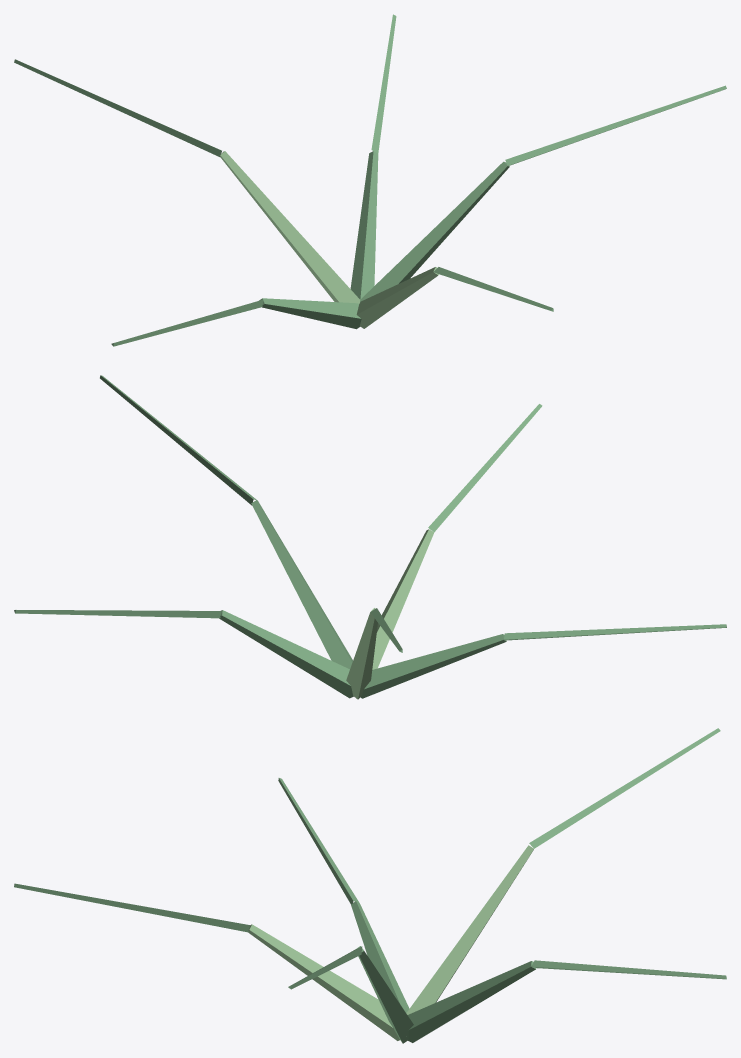
Rendered from fern_v04.glb.
3 renders of one model, top to bottom at view 1: azimuth 30°, elevation 25°; view 2: azimuth 150°, elevation 25°; view 3: azimuth 270°, elevation 25°, orthographic. The views are drawn at different scales.
Parts seen in each view (by area): view 1: lod0; view 2: lod0; view 3: lod0.
Part boxes in pixels (left/top/right/bottom): lod0: left=14, top=14, right=726, bottom=346; lod0: left=14, top=375, right=726, bottom=699; lod0: left=14, top=728, right=726, bottom=1043.
Size of what is drawn, in the model's own units: 1.87 by 0.5939 by 1.78.
